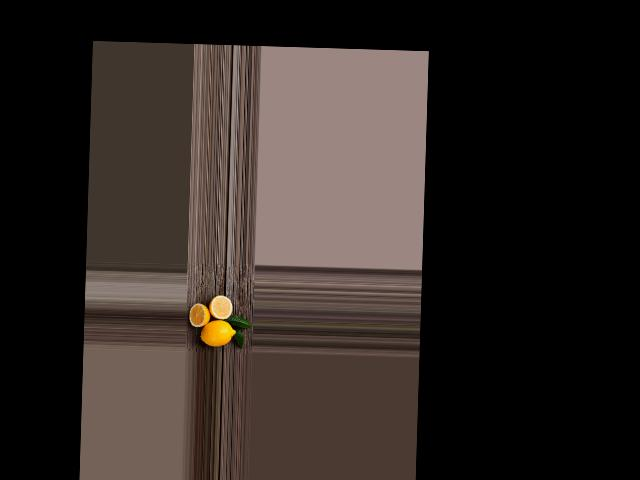lemon: (200, 317, 239, 345)
